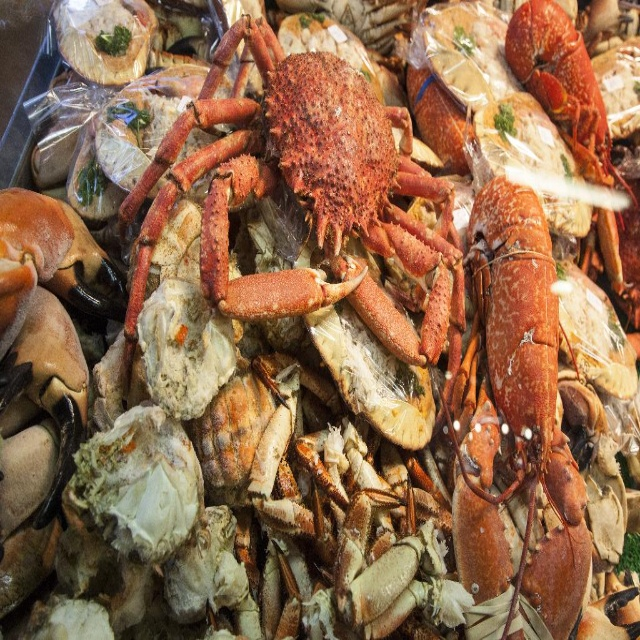Crab: (91, 13, 466, 400)
